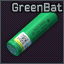GreenBat lithium battery: (0, 0, 64, 64)
